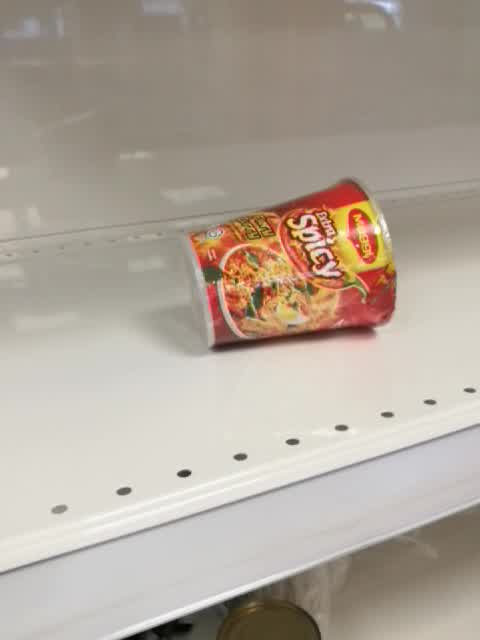maggi: (183, 177, 397, 352)
